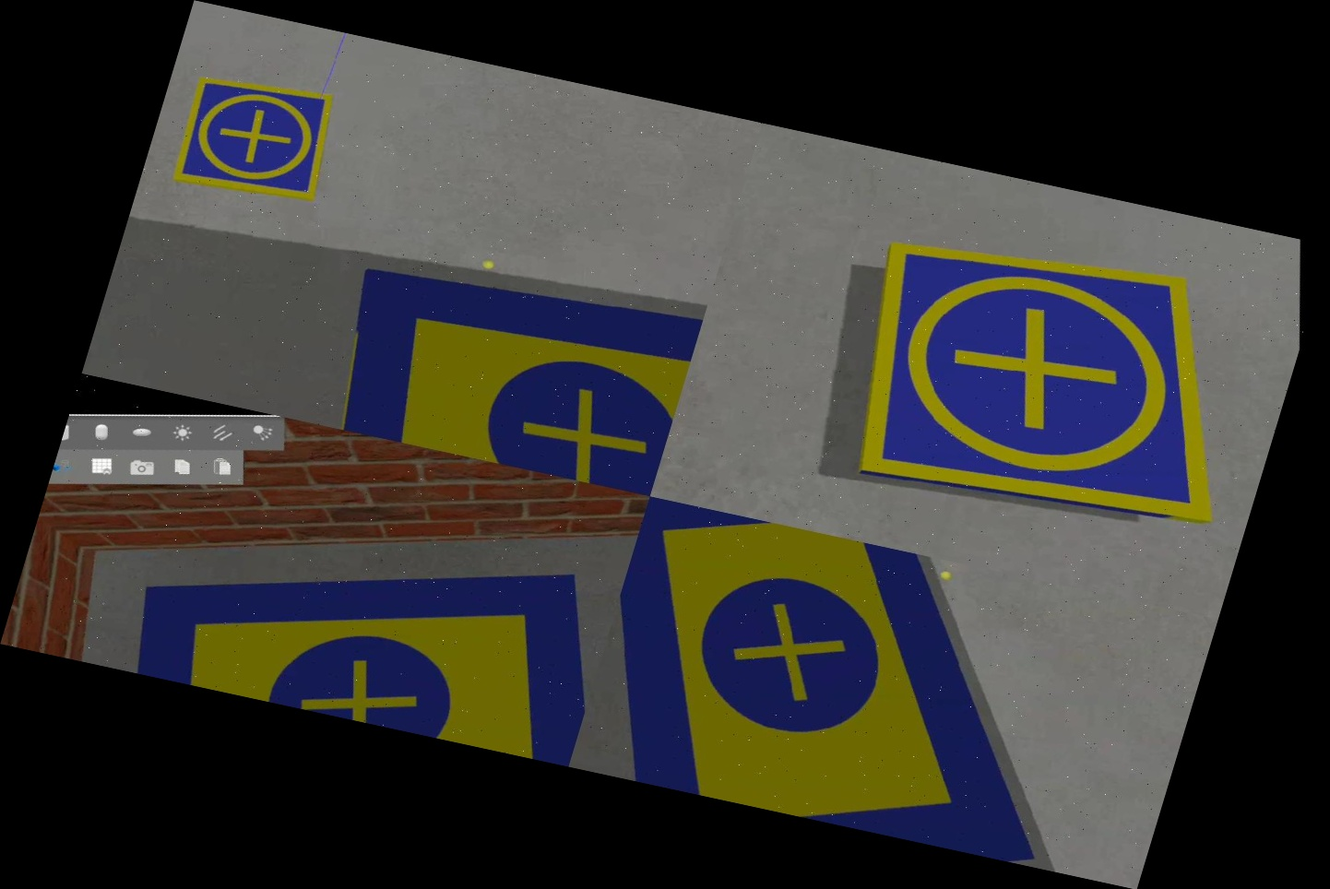large_base: (568, 496, 1124, 869), (94, 477, 624, 766), (278, 172, 723, 496)
small_base: (780, 168, 1299, 597), (135, 41, 373, 239)
